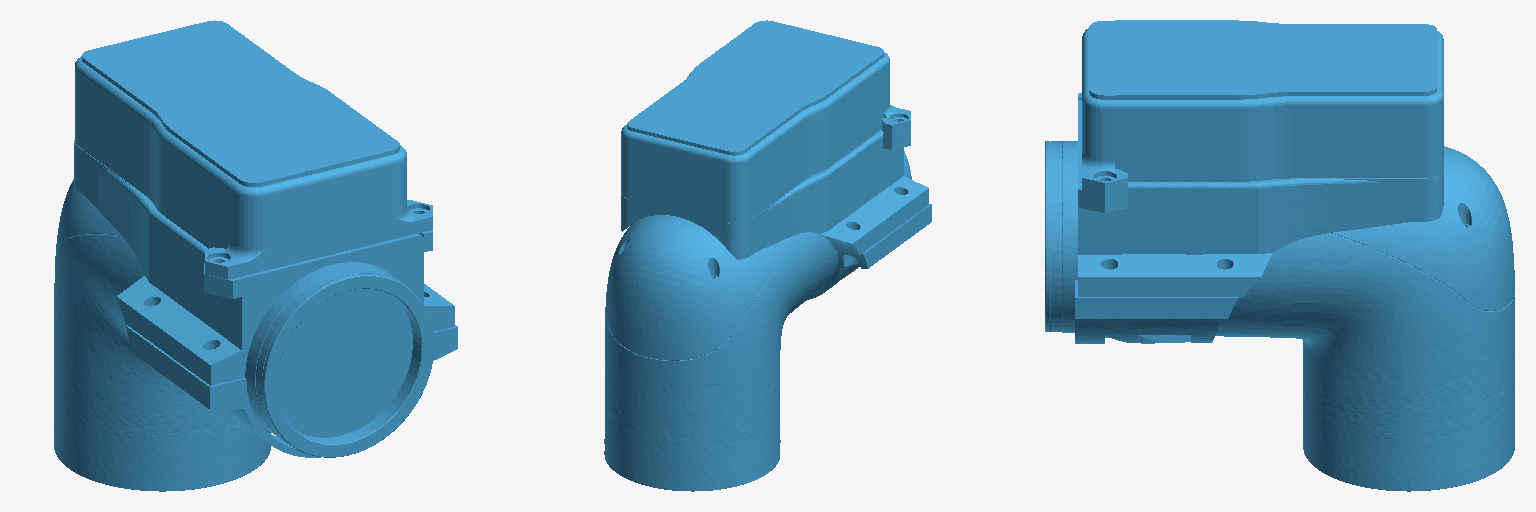
URDF robot description (robot):
<?xml version="1.0" encoding="UTF-8"?>
<robot name="robot">
  <link name="base_link">
  </link>
  <link name="Link_1">
    <visual>
      <origin xyz="0 0 0" rpy="0 0 0"/>
      <geometry>
        <mesh filename="meshes/Link_1.stl"/>
      </geometry>
    </visual>
    <collision>
      <origin xyz="0 0 0" rpy="0 0 0"/>
      <geometry>
        <mesh filename="meshes/Link_1.stl"/>
      </geometry>
    </collision>
  </link>
  <joint name="Joint_1" type="fixed">
    <parent link="base_link"/>
    <child link="Link_1"/>
    <origin xyz="0 0 0" rpy="0 0 0"/>
    <axis xyz="0 0 1"/>
  </joint>
</robot>

--- Facts derived from the render (not from the file) ---
Views: 3 orthographic renders of the robot side by side, from view 1: azimuth 30°, elevation 25°; view 2: azimuth 150°, elevation 25°; view 3: azimuth 270°, elevation 25°.
Model robot with 2 links and 1 joints (1 fixed), rooted at base_link, posed every joint at zero.
Visible links, largest first — view 1: Link_1; view 2: Link_1; view 3: Link_1.
Boxes of the visible links, x1,y1,x2,y2 form: Link_1: [54, 20, 457, 491]; Link_1: [604, 20, 931, 491]; Link_1: [1045, 20, 1514, 491].
Size in the robot's own frame: 0.1212 by 0.204 by 0.1863 metres.
Meshes: 1 distinct files referenced, 1 mesh visuals loaded (1 binary STL).
